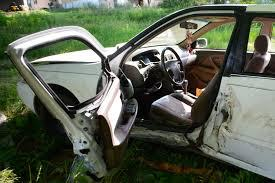RunningBoard-Dent: (127, 123, 200, 148)
doorouter-dent: (213, 70, 274, 162)
